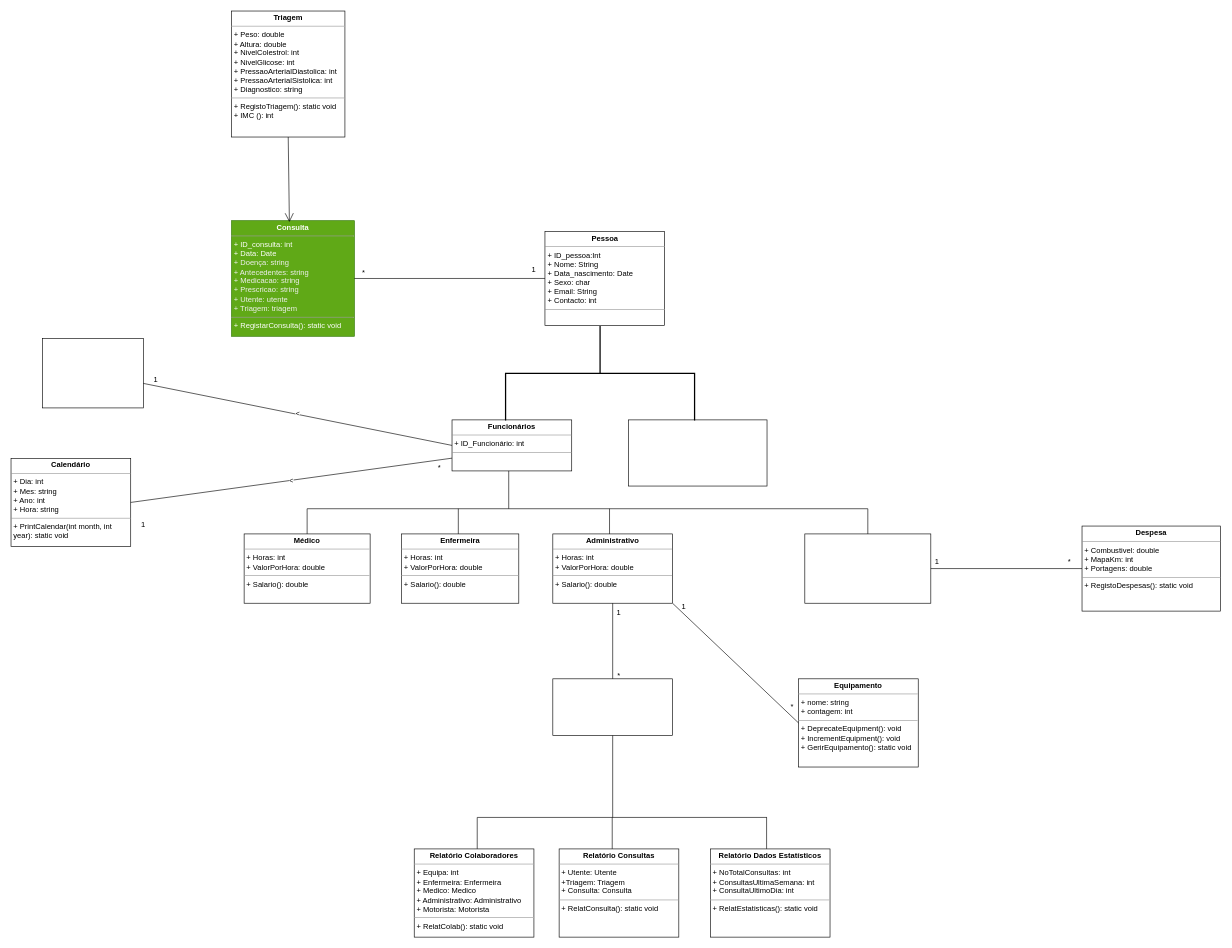
Some shapes in this 1232 by 948 pixel diagram are drawn without their labels. Each missing label, with the box of its shape:
Login + username: string + password: string: (42, 338, 143, 408)
Motorista + Horas: int + ValorPorHora: double + Salario(): double: (804, 533, 931, 603)
Relatório + DataRelatorio: DateTime: (552, 678, 673, 736)
Utente + no_utente: Int + RegistoUtente(): static void: (628, 419, 767, 486)
